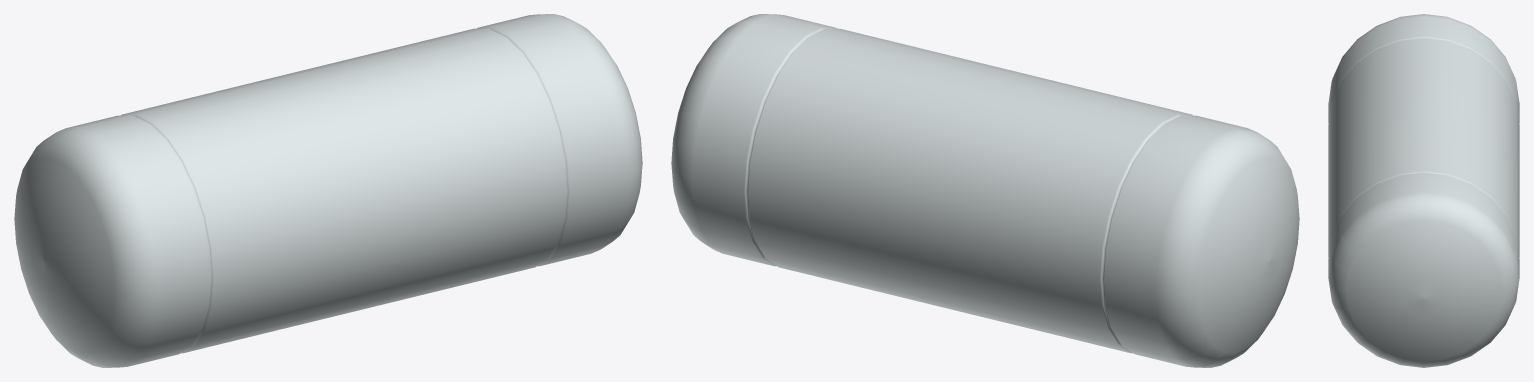
The model's file is utility-fuel-shell-authored-atlas.glb.
The picture shows the model from 3 angles, left to right: view 1: azimuth 30°, elevation 25°; view 2: azimuth 150°, elevation 25°; view 3: azimuth 270°, elevation 25°; orthographic projection. The views are drawn at different scales.
Parts seen in each view (by area): view 1: Authored surface; view 2: Authored surface; view 3: Authored surface.
Boxes of the visible parts, left/top/right/bottom form: Authored surface: left=14, top=14, right=642, bottom=367; Authored surface: left=671, top=14, right=1299, bottom=367; Authored surface: left=1328, top=14, right=1519, bottom=367.
Bounding box in the file's own units: 16 × 6 × 6.
Materials: 1 (1 with a texture image).
